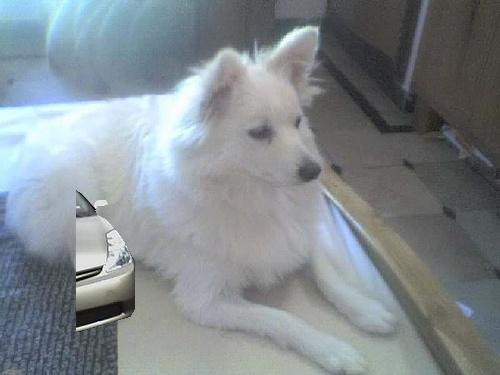tampered: (77, 191, 135, 332)
